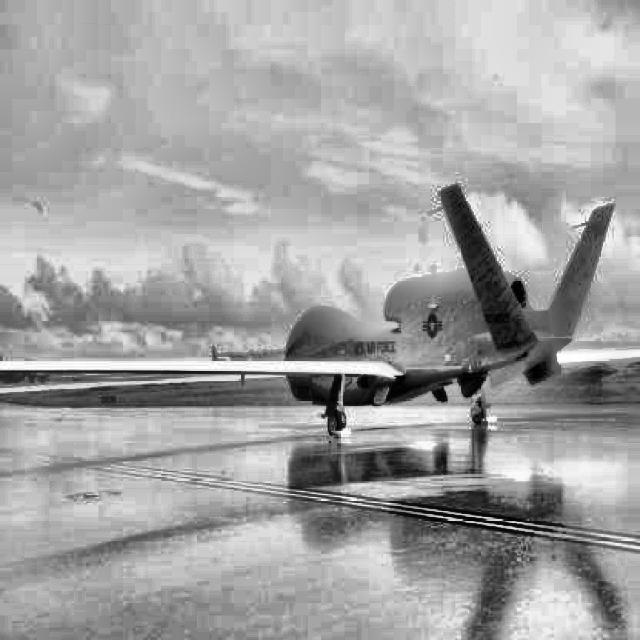RQ4: (0, 182, 640, 436)
